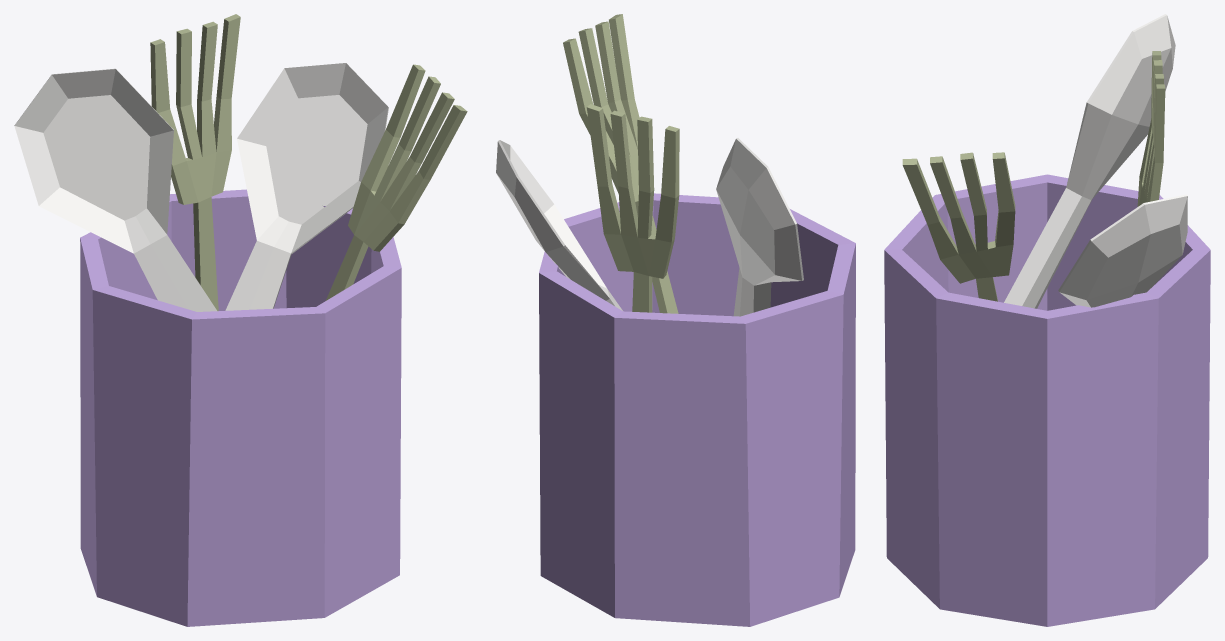
Rendered from Cutlery1.fbx.
3 views of the same model, side by side, from view 1: azimuth 30°, elevation 25°; view 2: azimuth 150°, elevation 25°; view 3: azimuth 270°, elevation 25° (orthographic). The views are drawn at different scales.
Parts seen in each view (by area): view 1: Cutlery1; view 2: Cutlery1; view 3: Cutlery1.
Part boxes in pixels (x1,y1,x2,y2): Cutlery1: (14,14,467,626); Cutlery1: (496,14,855,626); Cutlery1: (884,14,1210,626).
Bounding box in the file's own units: 21.82 × 18.37 × 31.09.
